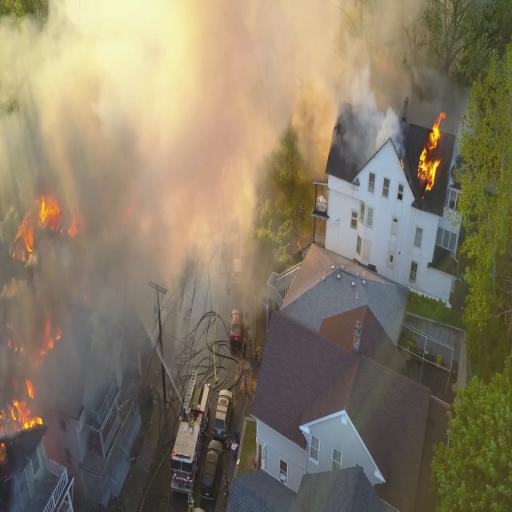fire: (15, 196, 62, 252), (412, 129, 444, 191), (9, 402, 40, 429)
smoke: (116, 2, 214, 232)
